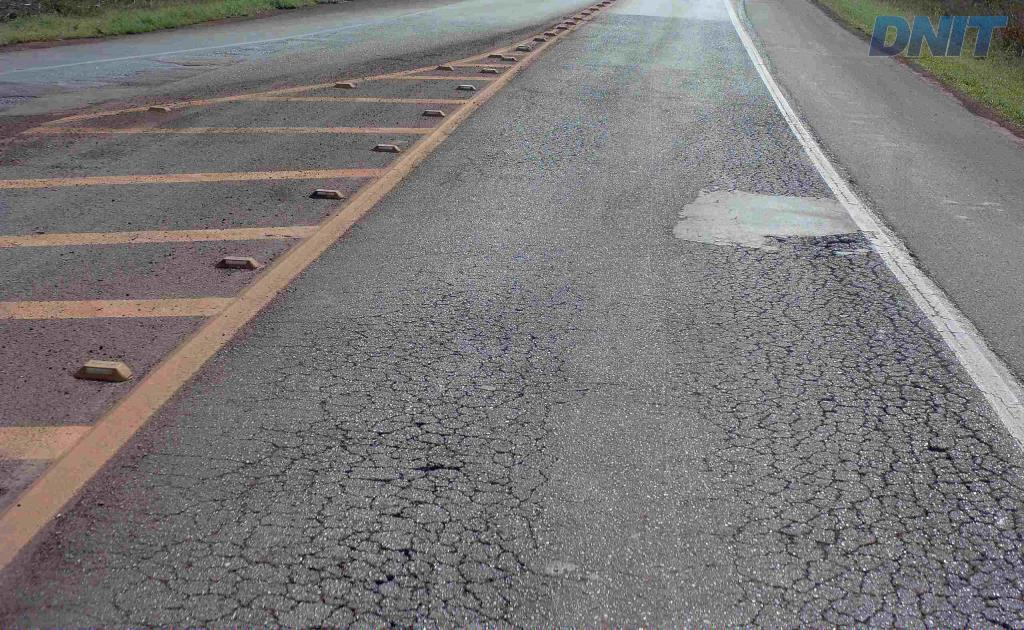crack: (875, 358, 1023, 571), (398, 430, 472, 508), (321, 404, 407, 455), (346, 518, 428, 569), (878, 404, 923, 491), (849, 377, 897, 447), (484, 541, 535, 597), (836, 346, 915, 381), (358, 557, 419, 597), (304, 554, 359, 597)
